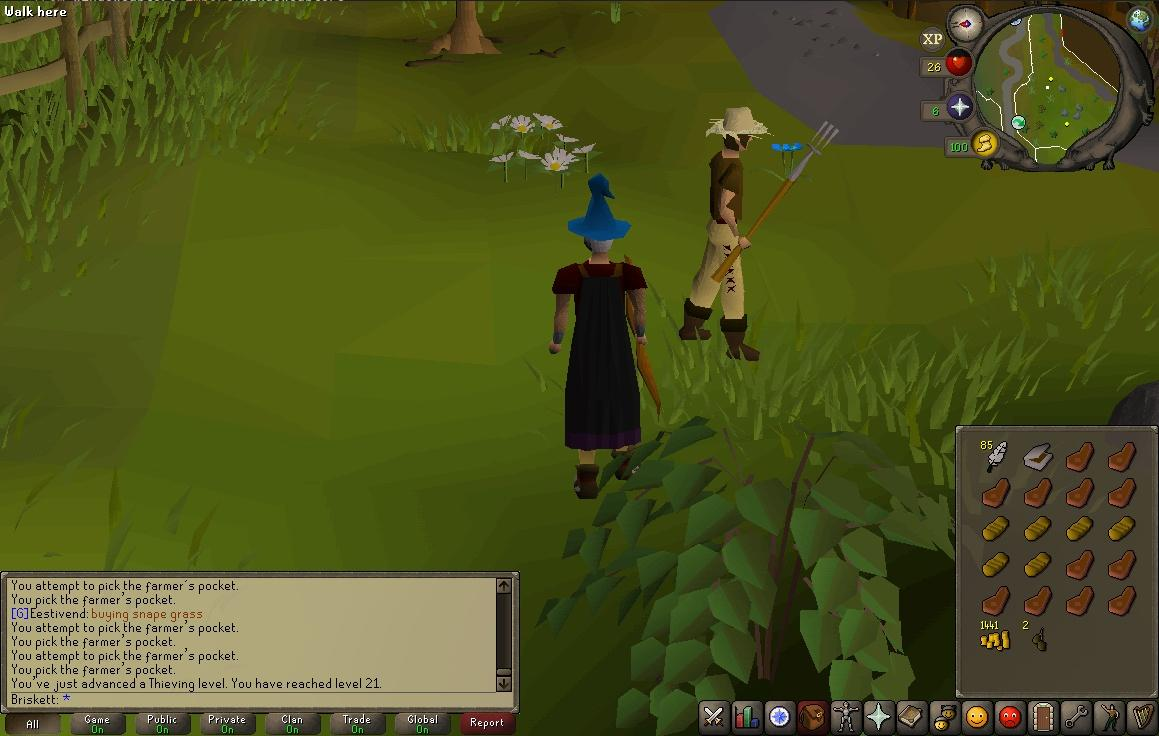Farmer: (678, 106, 771, 362)
